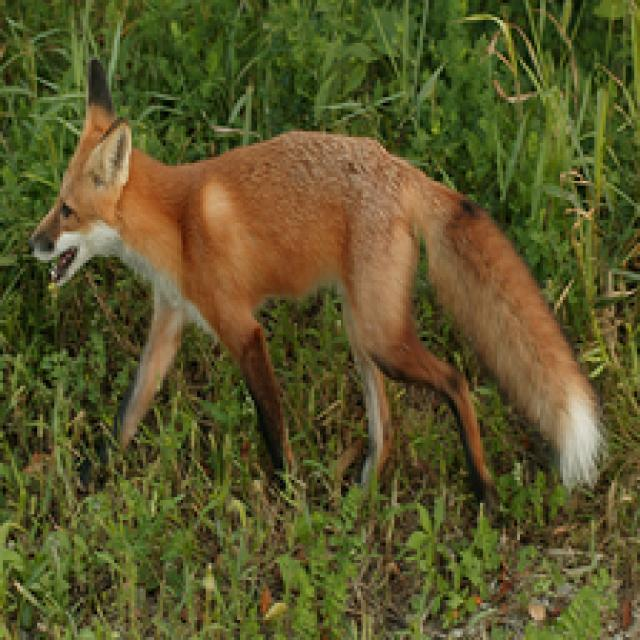fox: (7, 84, 640, 477)
